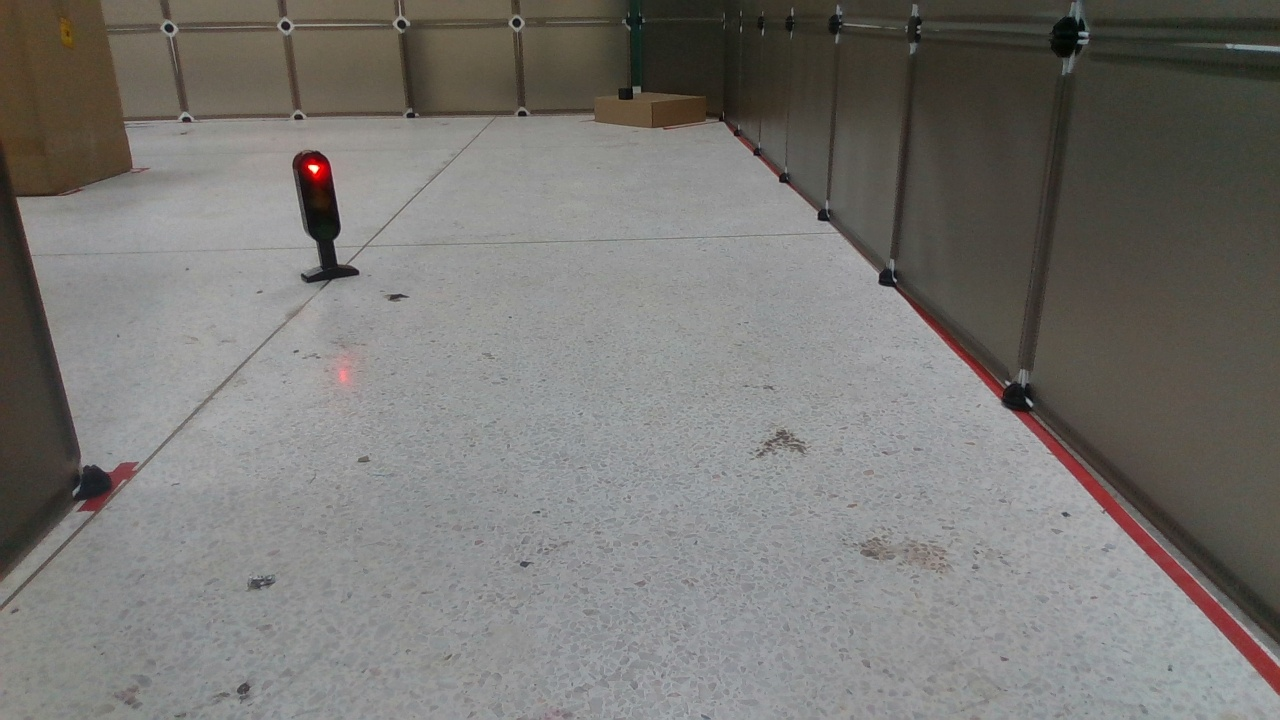Red traffic light: (287, 150, 360, 283)
